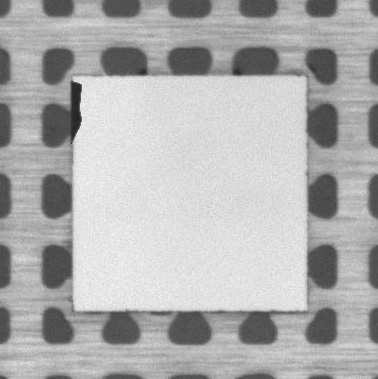DIE_BROKEN: (68, 78, 84, 143)
